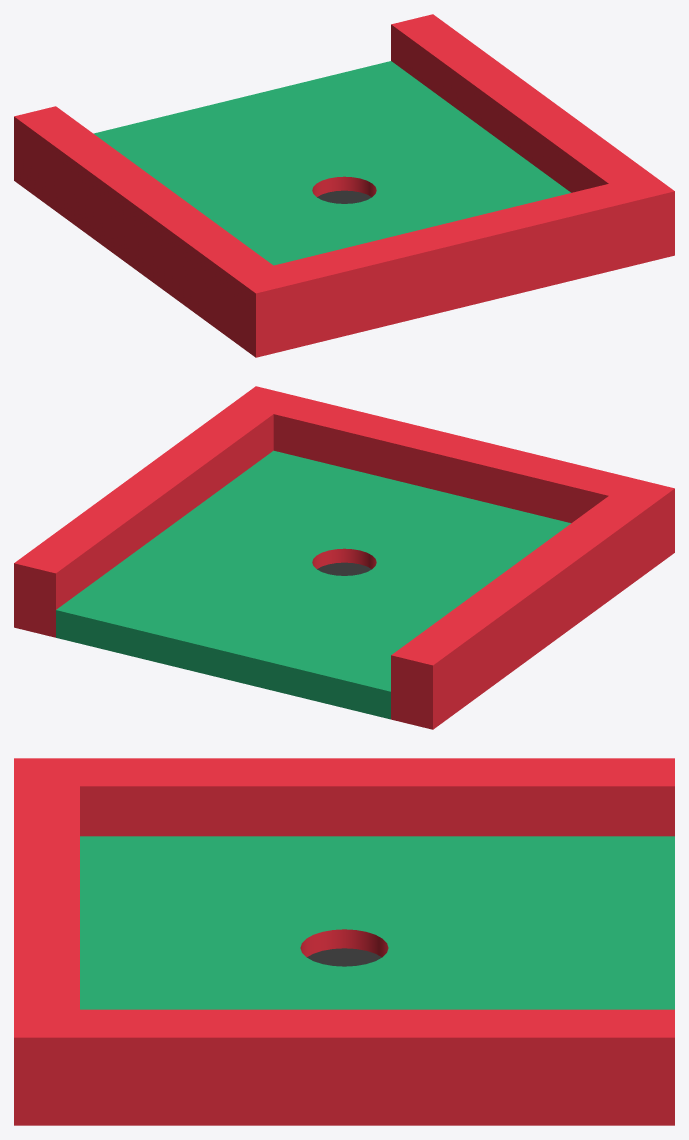
The model's file is holeSquare.fbx.
3 renders of one model, top to bottom at view 1: azimuth 30°, elevation 25°; view 2: azimuth 150°, elevation 25°; view 3: azimuth 270°, elevation 25°, orthographic. The views are drawn at different scales.
Parts seen in each view (by area): view 1: holeSquare; view 2: holeSquare; view 3: holeSquare.
Part boxes in pixels (x1,y1,x2,y2): holeSquare: (14, 14, 674, 357); holeSquare: (14, 386, 674, 729); holeSquare: (14, 758, 674, 1125).
Size of the model in its own units: 10 by 1.47 by 10.
